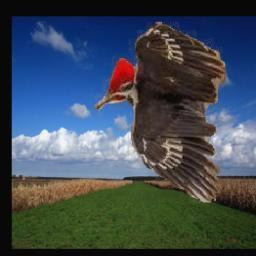Woodpecker: (95, 22, 226, 203)
